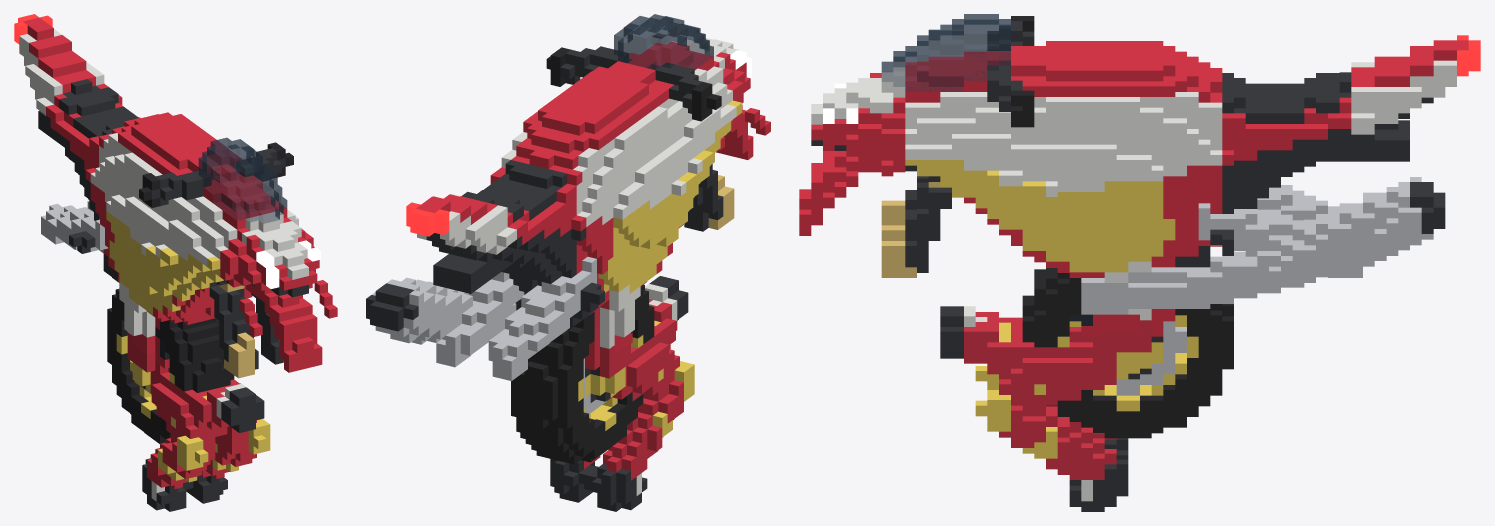
File: bike_voxel.glb
3 views of the same model, side by side, from view 1: azimuth 30°, elevation 25°; view 2: azimuth 150°, elevation 25°; view 3: azimuth 270°, elevation 25° (orthographic). The views are drawn at different scales.
Visible parts, largest first — view 1: body, fork, frame, wheelRear, bubble, legR, legL, armR, torso, wheelFront, armL, headlight (+2 smaller); view 2: body, frame, wheelRear, legR, bubble, fork, torso, wheelFront, armR, legL, armL, tail (+1 smaller); view 3: body, frame, wheelRear, legL, fork, bubble, armL, wheelFront, torso, helmet, legR, tail.
Boxes of the visible parts, <box> form: body: <box>19,17,319,324</box>; fork: <box>209,280,337,378</box>; frame: <box>38,111,293,282</box>; wheelRear: <box>107,289,234,443</box>; bubble: <box>198,137,287,223</box>; legR: <box>142,362,218,511</box>; legL: <box>185,419,270,503</box>; armR: <box>150,367,229,429</box>; torso: <box>119,282,159,392</box>; wheelFront: <box>130,320,223,418</box>; armL: <box>214,379,264,432</box>; headlight: <box>256,240,320,288</box>; body: <box>416,38,750,314</box>; frame: <box>366,46,721,380</box>; wheelRear: <box>511,284,654,464</box>; legR: <box>588,349,694,511</box>; bubble: <box>614,14,713,70</box>; fork: <box>684,105,770,231</box>; torso: <box>585,284,640,402</box>; wheelFront: <box>520,340,617,463</box>; armR: <box>625,302,677,381</box>; legL: <box>550,456,600,502</box>; armL: <box>645,276,688,320</box>; tail: <box>406,202,449,236</box>; body: <box>811,40,1468,277</box>; frame: <box>987,16,1445,314</box>; wheelRear: <box>1022,269,1233,438</box>; legL: <box>975,336,1128,511</box>; fork: <box>799,151,951,277</box>; bubble: <box>881,14,1010,91</box>; armL: <box>940,306,1116,394</box>; wheelFront: <box>1022,268,1233,433</box>; torso: <box>1104,261,1163,379</box>; helmet: <box>1069,309,1175,342</box>; legR: <box>975,366,1128,459</box>; tail: <box>1457,35,1480,76</box>.
Size of the model in its own units: 0.684 by 1.67 by 2.2.
